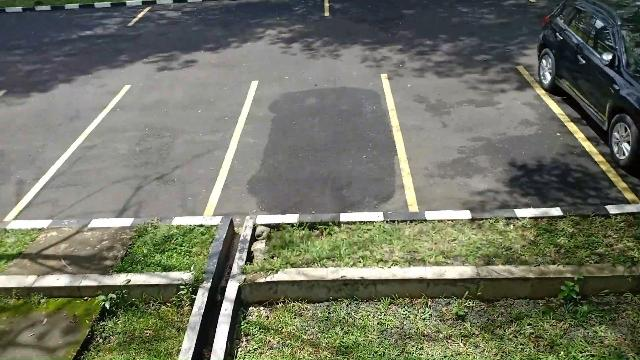empty: (398, 70, 548, 216), (238, 78, 400, 212), (74, 86, 240, 216)
